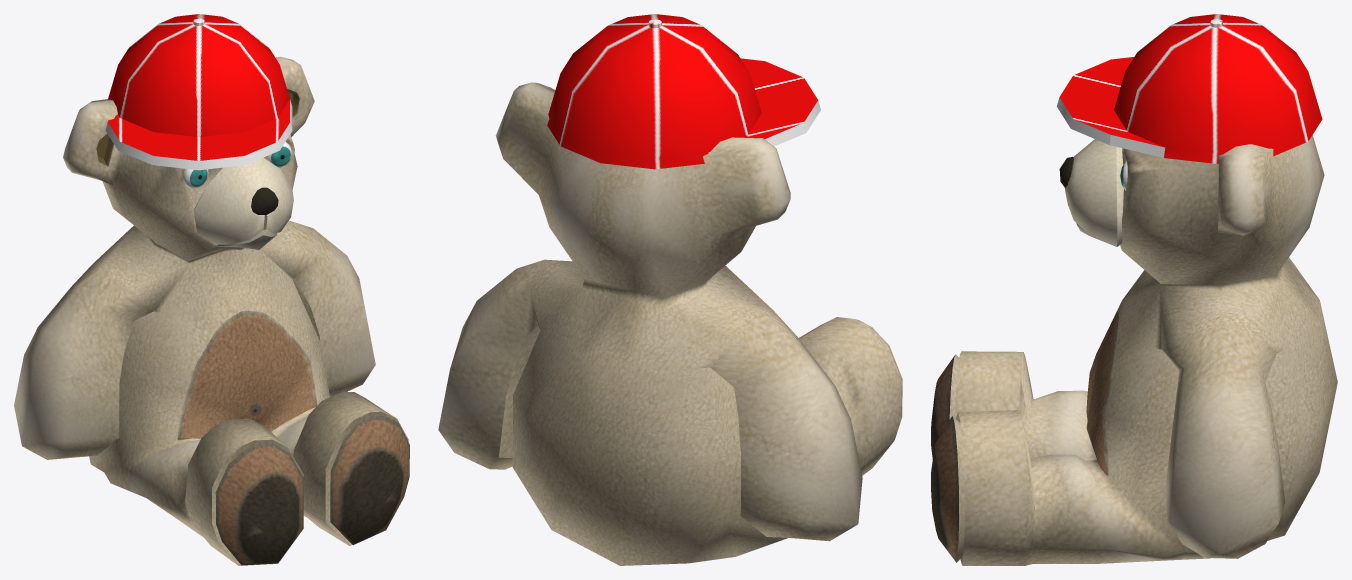
Rendered from Bear 1.FBX.
3 renders of one model, left to right at view 1: azimuth 30°, elevation 25°; view 2: azimuth 150°, elevation 25°; view 3: azimuth 270°, elevation 25°, orthographic. The views are drawn at different scales.
Visible parts, largest first — view 1: медведь; view 2: медведь; view 3: медведь.
Part boxes in pixels (x1,y1,x2,y2): медведь: (14, 14, 409, 565); медведь: (438, 14, 902, 565); медведь: (931, 14, 1337, 565).
Bounding box in the file's own units: 11.12 × 13.73 × 9.88.
3 materials, 3 textured.
